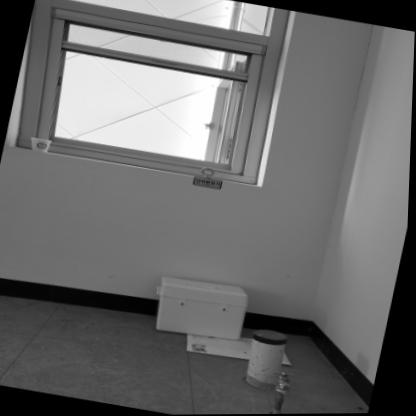DDL: (148, 271, 253, 343)
